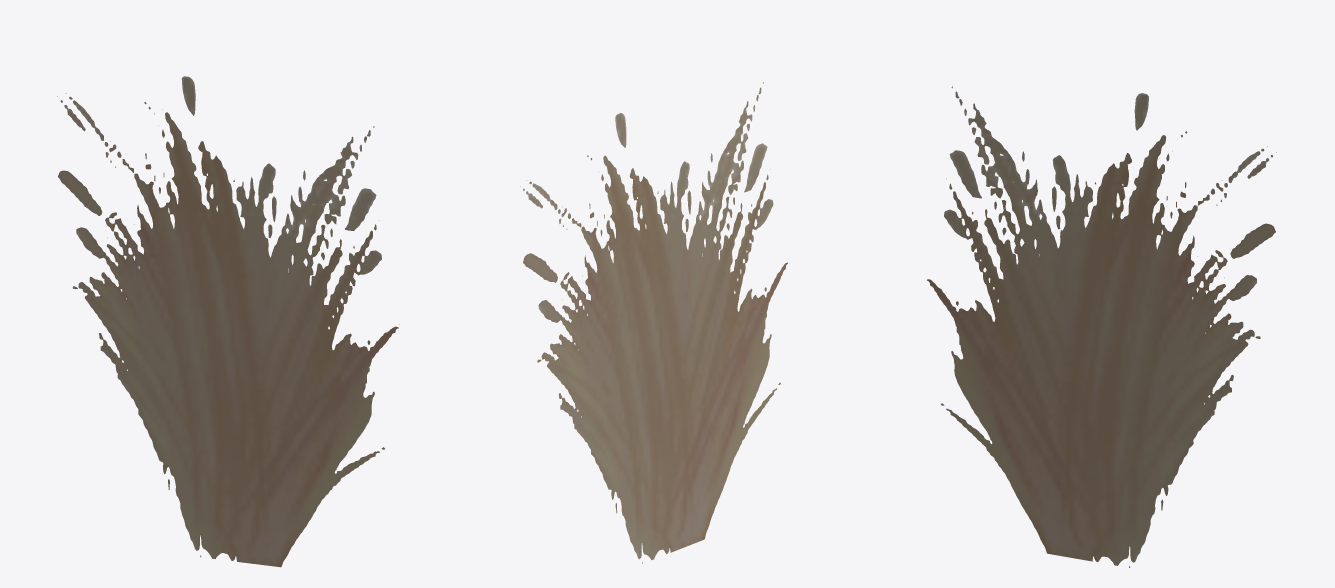
Rendered from grass2_005.fbx.
The picture shows the model from 3 angles, left to right: view 1: azimuth 90°, elevation 25°; view 2: azimuth 150°, elevation 25°; view 3: azimuth 270°, elevation 25°; orthographic projection. The views are drawn at different scales.
Visible parts, largest first — view 1: grass2.005; view 2: grass2.005; view 3: grass2.005.
Part boxes in pixels (<box>): grass2.005: <box>57,76,399,567</box>; grass2.005: <box>520,82,787,563</box>; grass2.005: <box>927,86,1276,567</box>.
Size of the model in its own units: 58.89 by 209 by 161.
